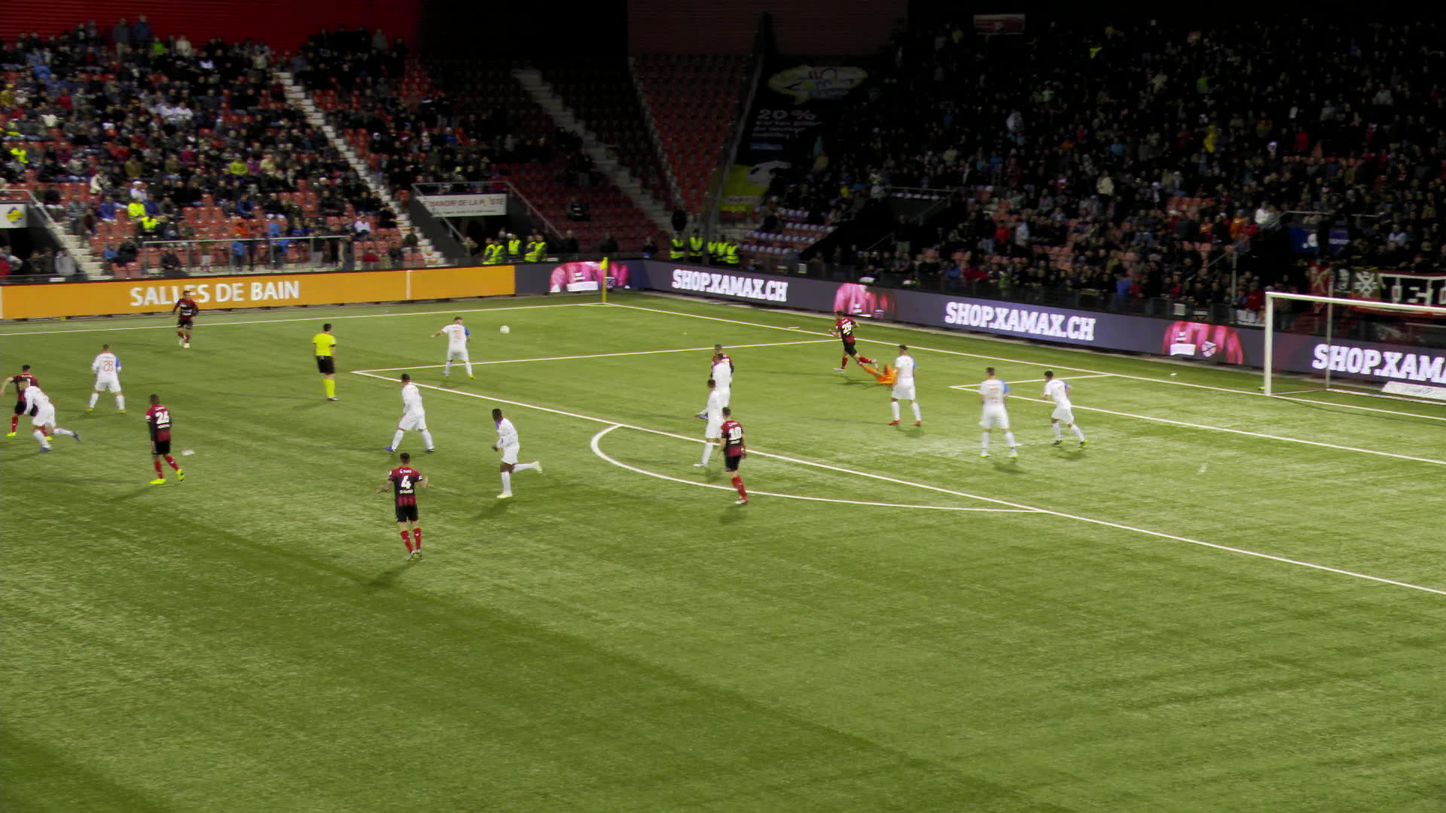ball: (499, 325, 509, 333)
player: (377, 452, 430, 560), (486, 408, 536, 497), (384, 371, 435, 452), (18, 377, 70, 452), (1039, 369, 1089, 447), (5, 362, 53, 440), (711, 406, 749, 504), (139, 393, 179, 484), (975, 367, 1011, 457), (84, 342, 127, 415), (883, 344, 920, 426), (828, 311, 874, 376), (431, 316, 474, 381), (697, 343, 730, 420), (694, 378, 721, 467), (708, 352, 730, 440), (169, 288, 198, 346), (856, 355, 895, 384)
referee: (308, 323, 337, 400)
